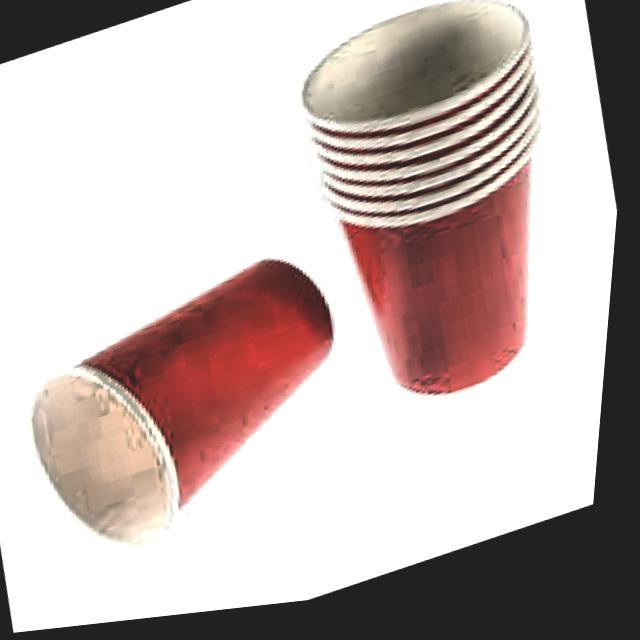Cup: (269, 0, 625, 472), (0, 235, 388, 597)
